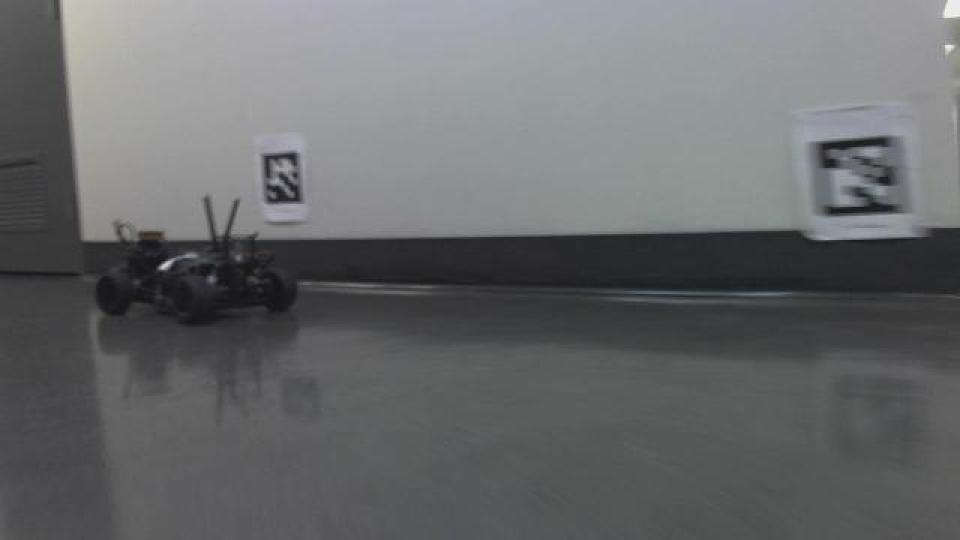car: (92, 190, 300, 329)
